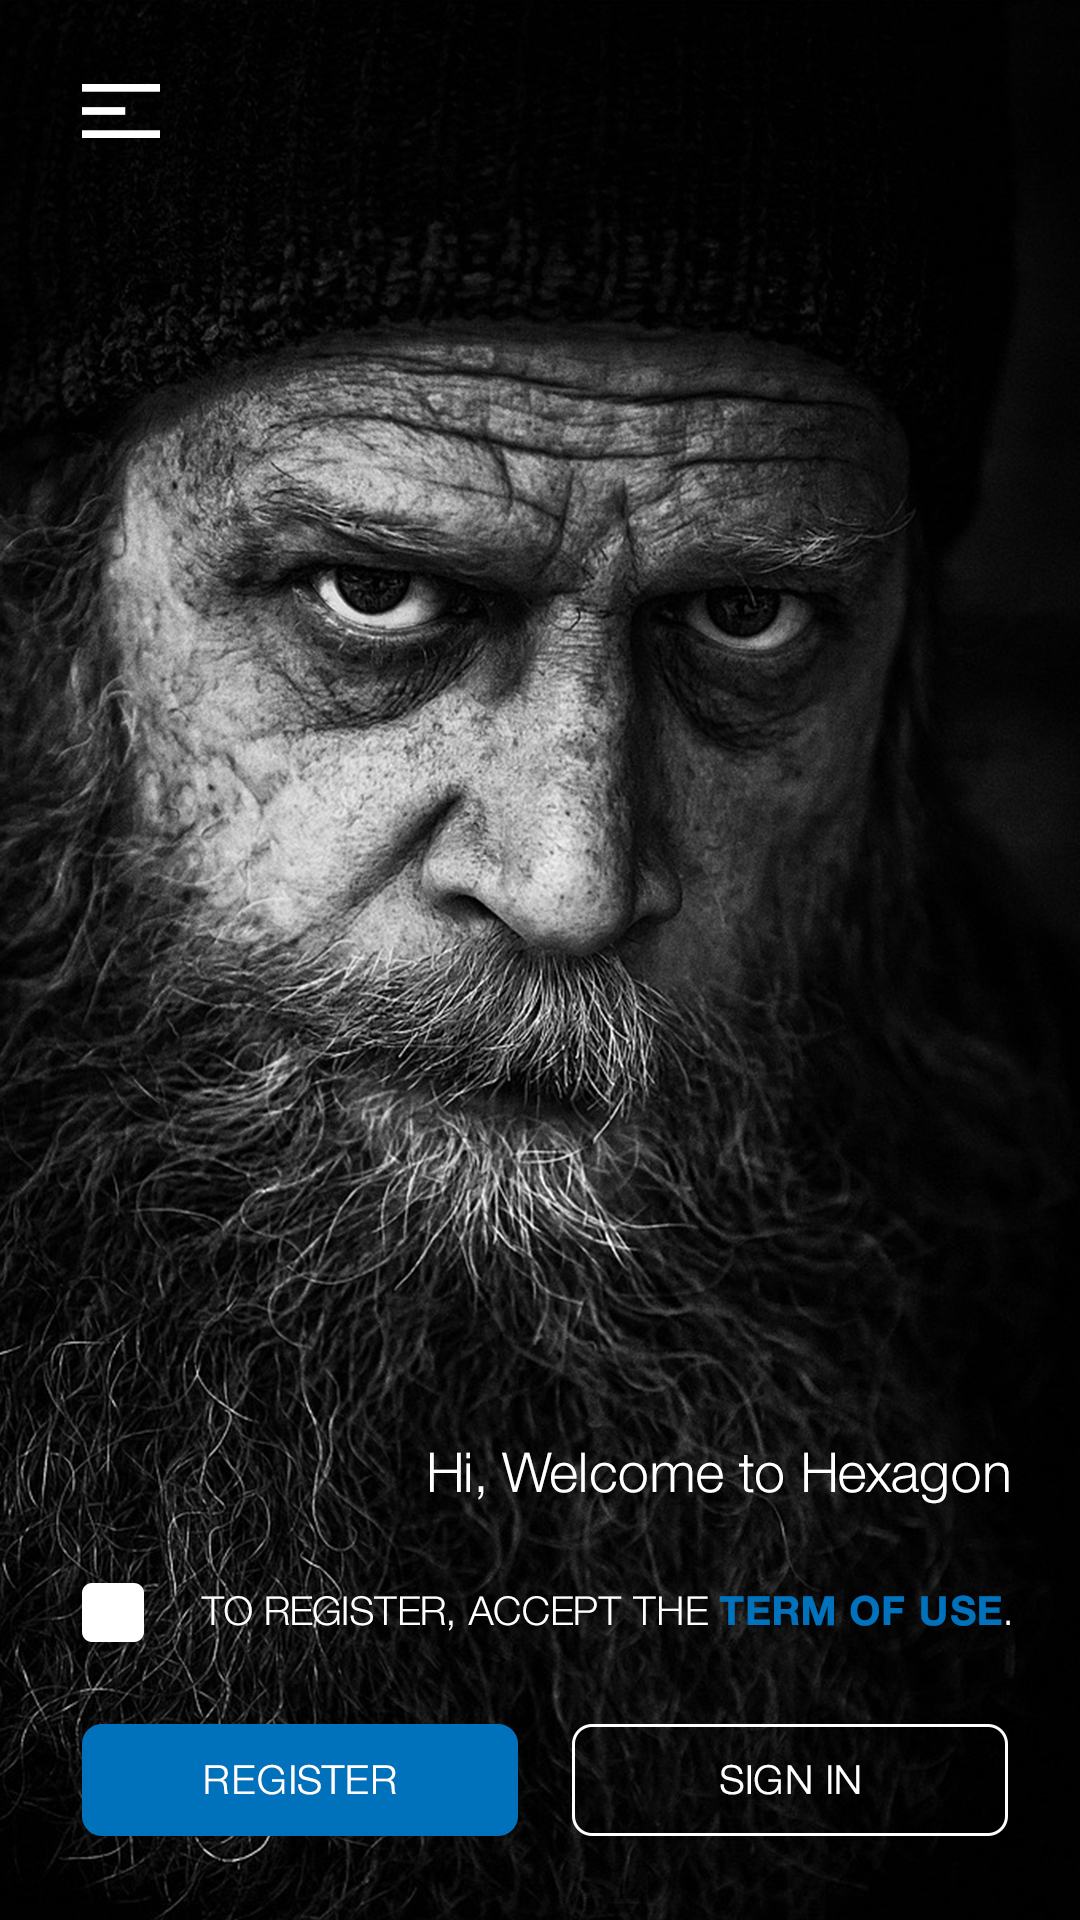BackgroundImage: (1, 1, 1080, 1920)
CheckedTextView: (83, 1582, 1011, 1643)
Icon: (82, 84, 161, 138)
Text: (430, 1451, 1010, 1505), (202, 1596, 1011, 1631)
TextButton: (82, 1724, 520, 1837), (572, 1724, 1009, 1837)
